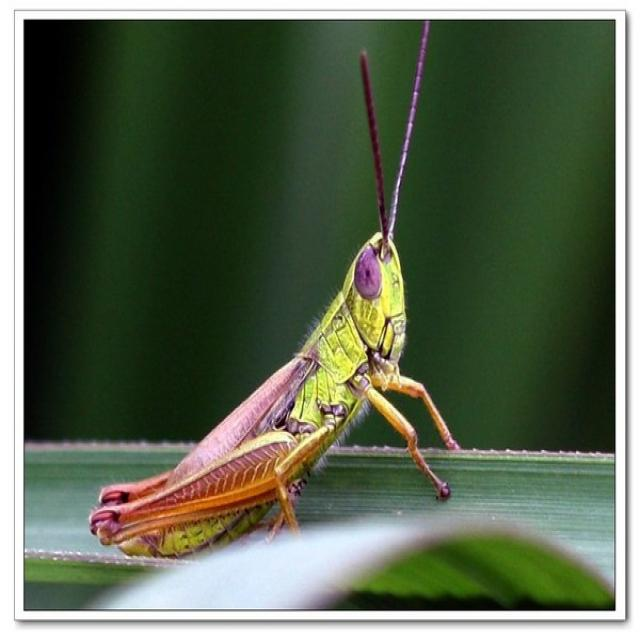ZhaMeng: (86, 226, 410, 574)
